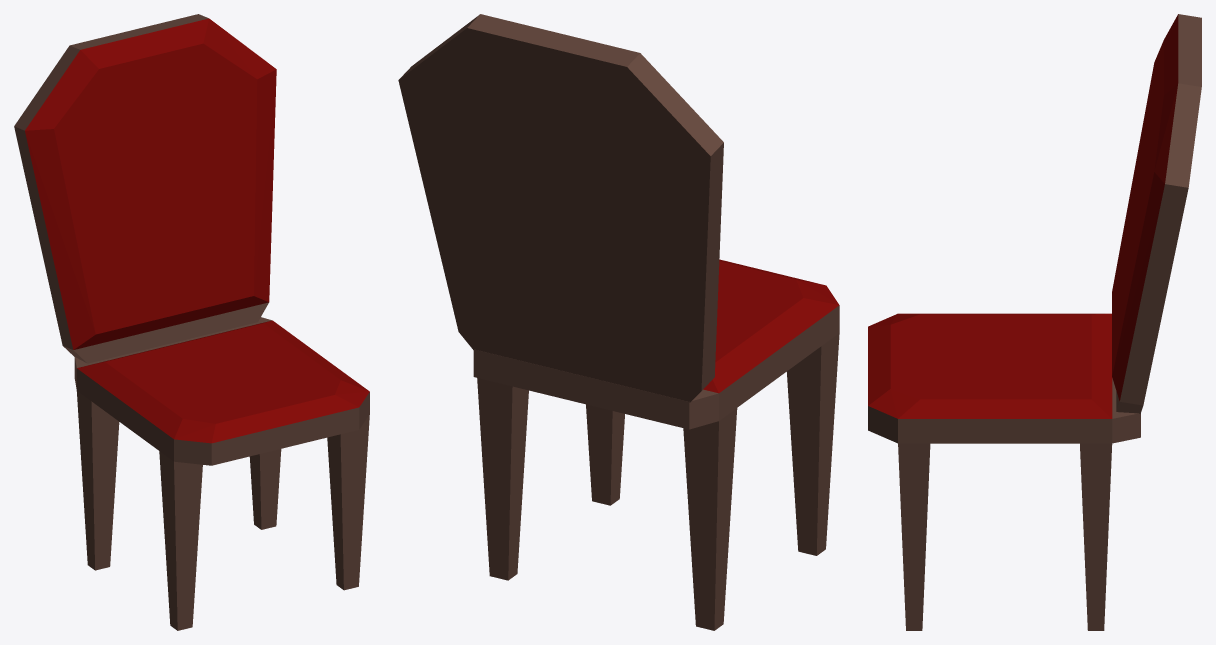
The model's file is Chair02.glb.
3 renders of one model, left to right at view 1: azimuth 30°, elevation 25°; view 2: azimuth 150°, elevation 25°; view 3: azimuth 270°, elevation 25°, orthographic. The views are drawn at different scales.
Parts seen in each view (by area): view 1: Chair02; view 2: Chair02; view 3: Chair02.
Boxes of the visible parts, x1=… form: Chair02: x1=14, y1=14, x2=369, y2=630; Chair02: x1=398, y1=14, x2=839, y2=630; Chair02: x1=868, y1=14, x2=1201, y2=630.
Size of the model in its own units: 0.6239 by 1.15 by 0.6498.
